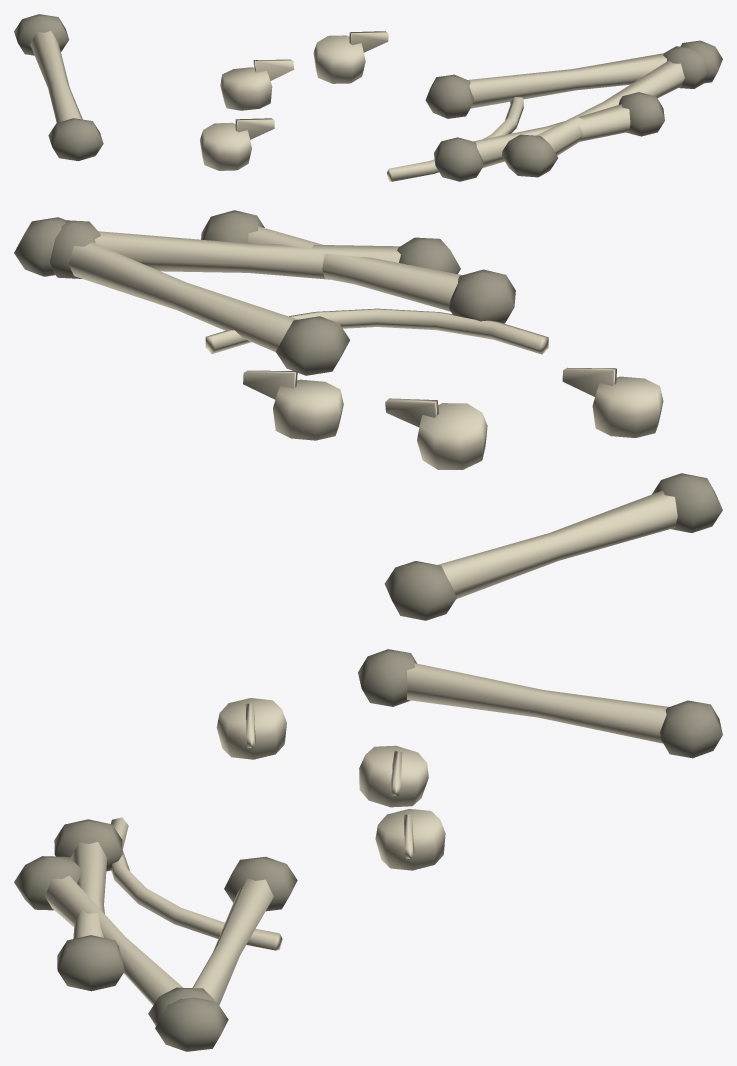
File: lake-kosti-shallows-0.glb
3 views of the same model, one above another, from view 1: azimuth 30°, elevation 25°; view 2: azimuth 150°, elevation 25°; view 3: azimuth 270°, elevation 25° (orthographic). The views are drawn at different scales.
Parts seen in each view (by area): view 1: lake-kosti-shallows-0; view 2: lake-kosti-shallows-0; view 3: lake-kosti-shallows-0.
Part boxes in pixels (left/top/right/bottom): lake-kosti-shallows-0: left=14, top=14, right=722, bottom=181; lake-kosti-shallows-0: left=14, top=210, right=722, bottom=620; lake-kosti-shallows-0: left=14, top=649, right=722, bottom=1051.
Bounding box in the file's own units: 0.4552 × 0.0381 × 0.3622.
